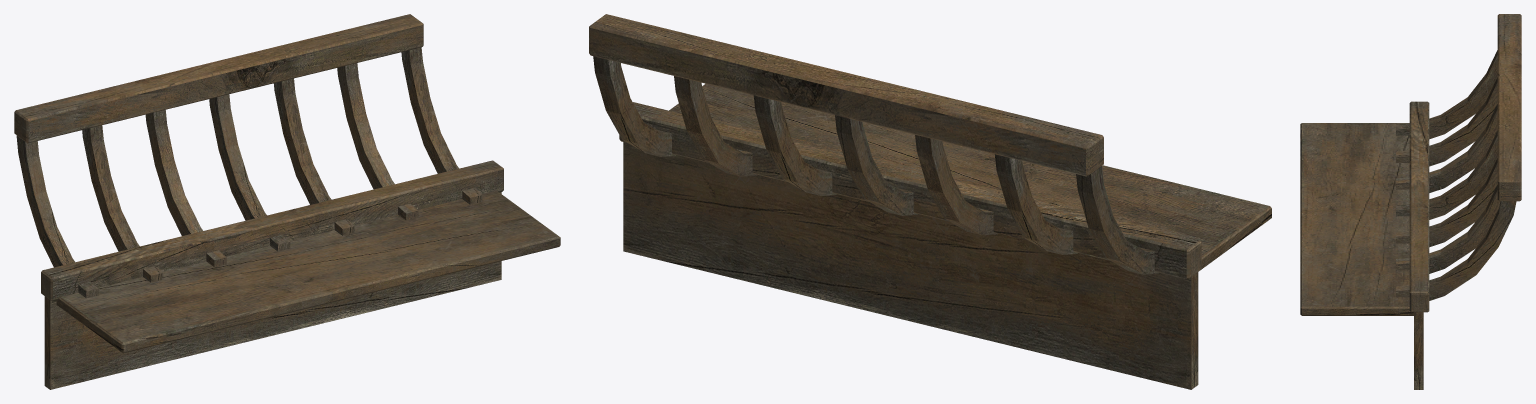
Rendered from HouseLanGan_1.fbx.
3 renders of one model, left to right at view 1: azimuth 30°, elevation 25°; view 2: azimuth 150°, elevation 25°; view 3: azimuth 270°, elevation 25°, orthographic. The views are drawn at different scales.
Parts seen in each view (by area): view 1: 3D_HouseLanGan.mo; view 2: 3D_HouseLanGan.mo; view 3: 3D_HouseLanGan.mo.
Boxes of the visible parts, x1,y1,x2,y2 form: 3D_HouseLanGan.mo: [14, 14, 560, 389]; 3D_HouseLanGan.mo: [589, 14, 1271, 389]; 3D_HouseLanGan.mo: [1300, 14, 1521, 389].
Size of the model in its own units: 308 by 148 by 151.
1 material, 1 textured.
